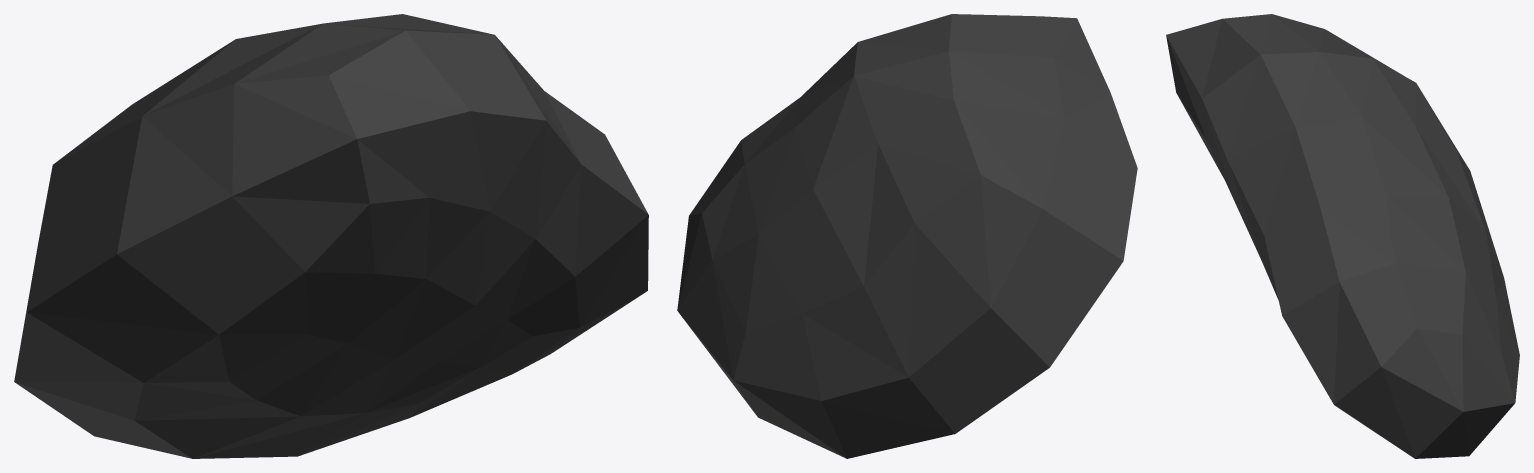
File: LHL_tibia3.glb
3 views of the same model, side by side, from view 1: azimuth 30°, elevation 25°; view 2: azimuth 150°, elevation 25°; view 3: azimuth 270°, elevation 25° (orthographic). The views are drawn at different scales.
Visible parts, largest first — view 1: LHL_tibia3; view 2: LHL_tibia3; view 3: LHL_tibia3.
Part boxes in pixels (<box>): LHL_tibia3: <box>14,14,648,458</box>; LHL_tibia3: <box>677,14,1137,458</box>; LHL_tibia3: <box>1166,14,1519,458</box>.
Size of the model in its own units: 5.35 by 4.46 by 3.88.
1 material, 1 textured.
